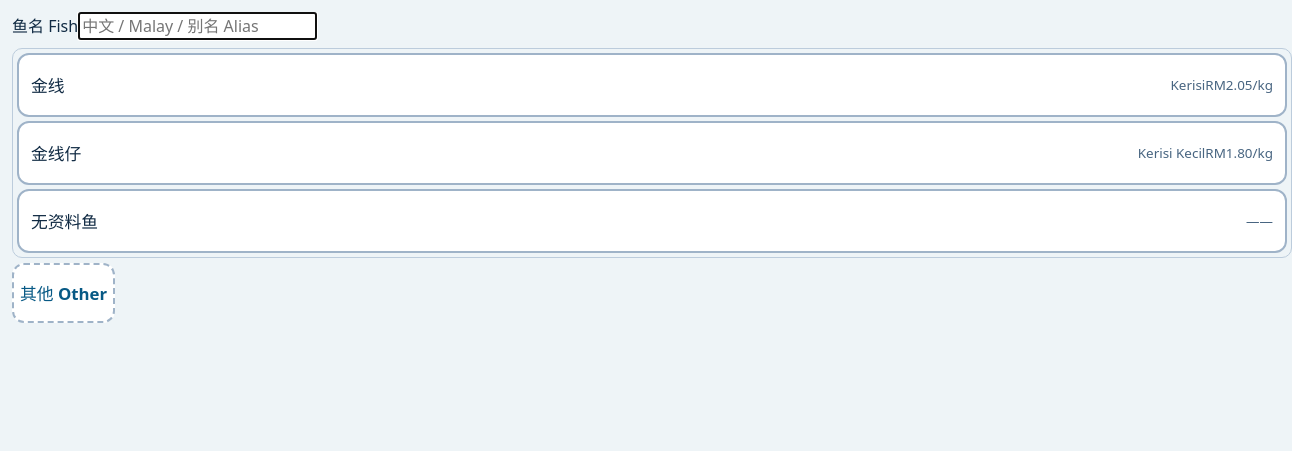
Test: compact retail fish selection › preserves price precision and range validation for Other without rounding
The width and height of the screenshot is (1292, 451).
Click the button "其他 Other": (64, 293) [12,263,115,323]
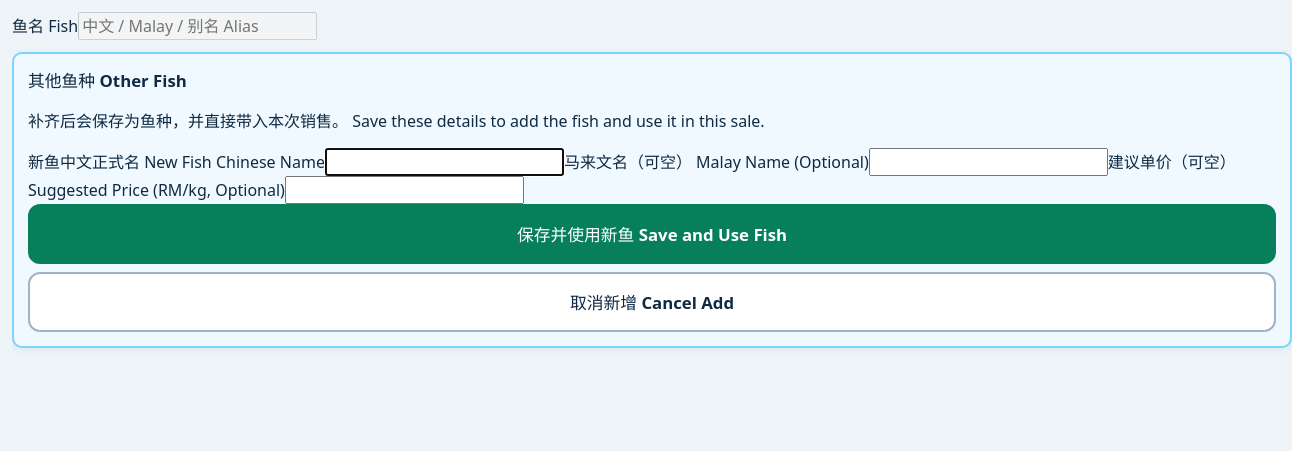
In the field labelled "新鱼中文正式名 New Fish Chinese Name": (444, 162) [325,148,564,176], type "红鱼"
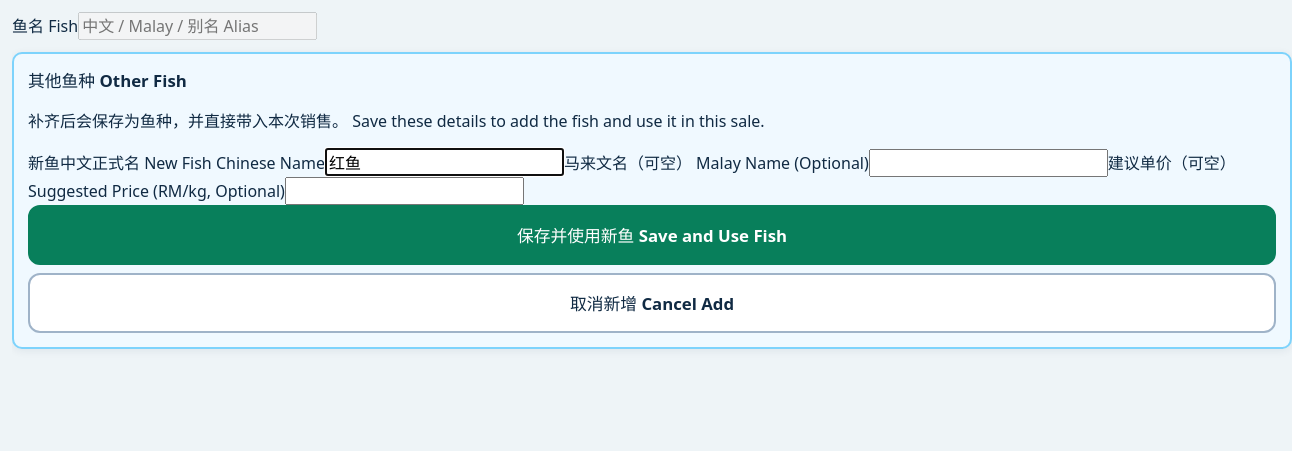
In the field labelled "马来文名（可空） Malay Name (Optional)": (988, 163) [869,149,1108,177], type "Merah"
In the field labelled "建议单价（可空） Suggested Price (RM/kg, Optional)": (404, 191) [285,177,524,205], type "2.055"
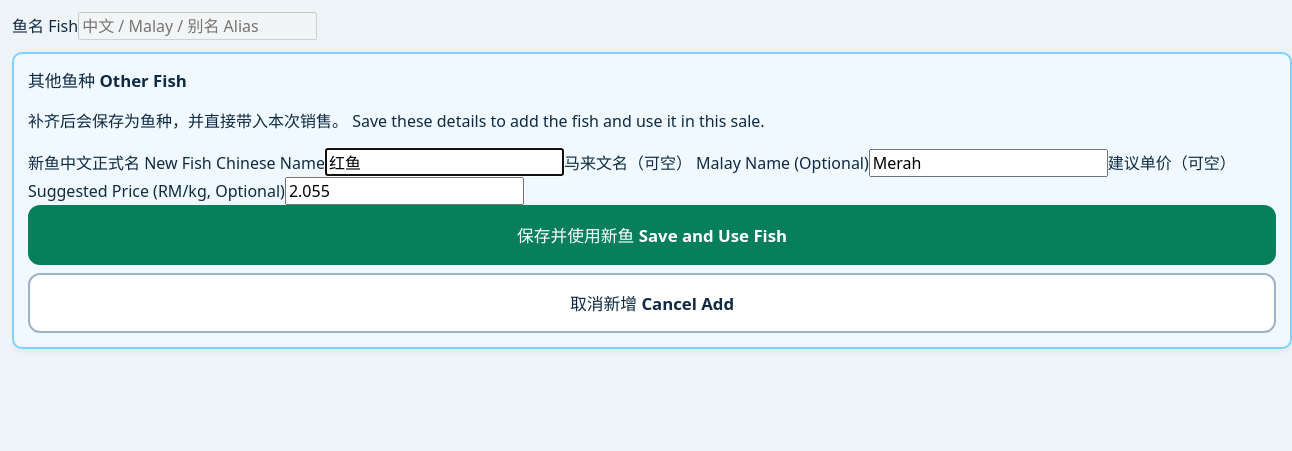
Click the button "保存并使用新鱼 Save and Use Fish": (652, 235) [28,205,1276,265]
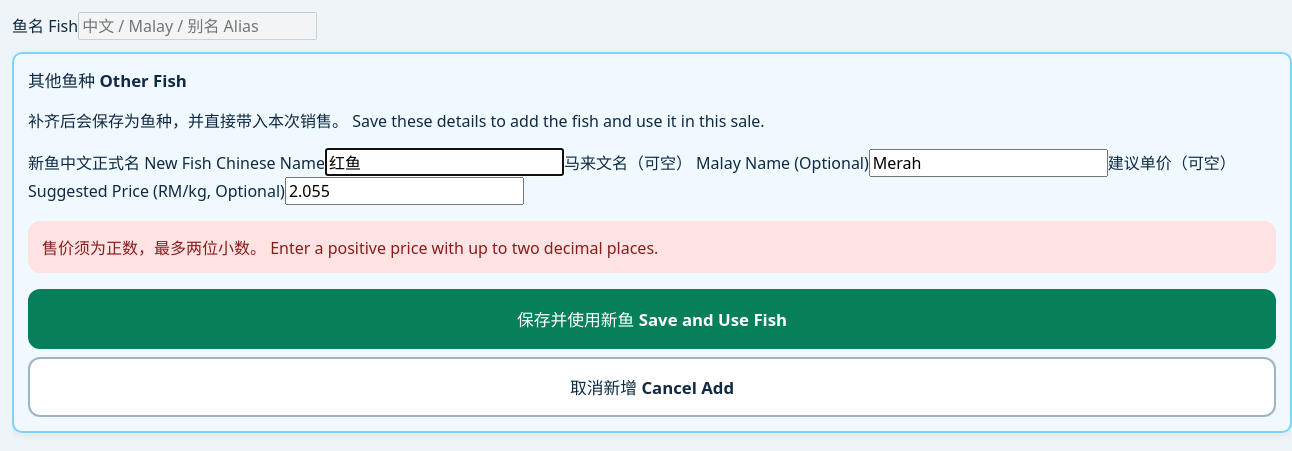
Result: the message shows "最多两位小数" at [42,237,658,259]
Replace the text in the field labelled "建议单价（可空） Suggested Price (RM/kg, Optional)" with "0": (404, 191) [285,177,524,205]
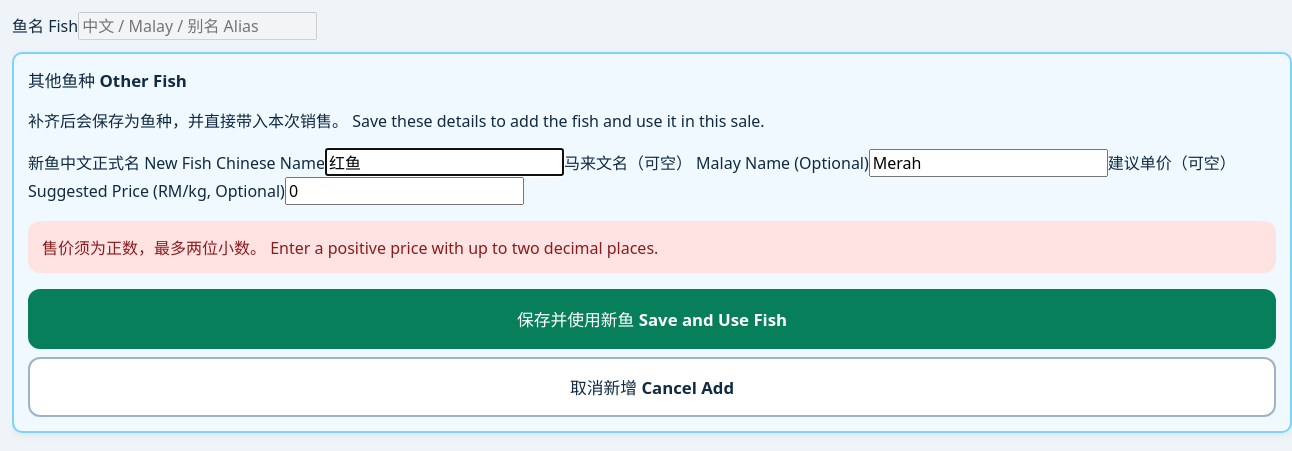
Click the button "保存并使用新鱼 Save and Use Fish": (652, 319) [28,289,1276,349]
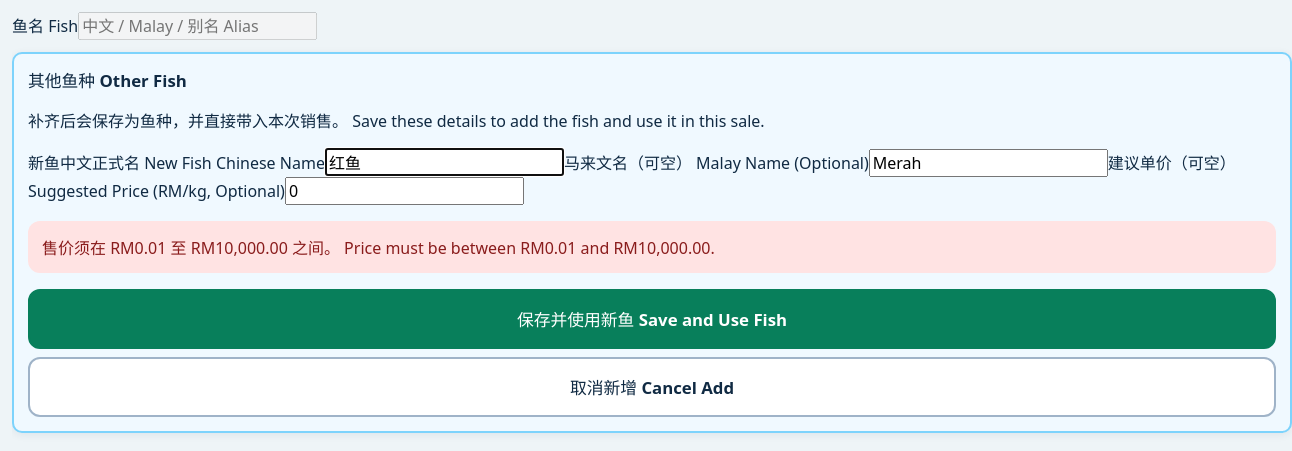
Result: the message shows "RM0.01" at [42,237,715,259]
